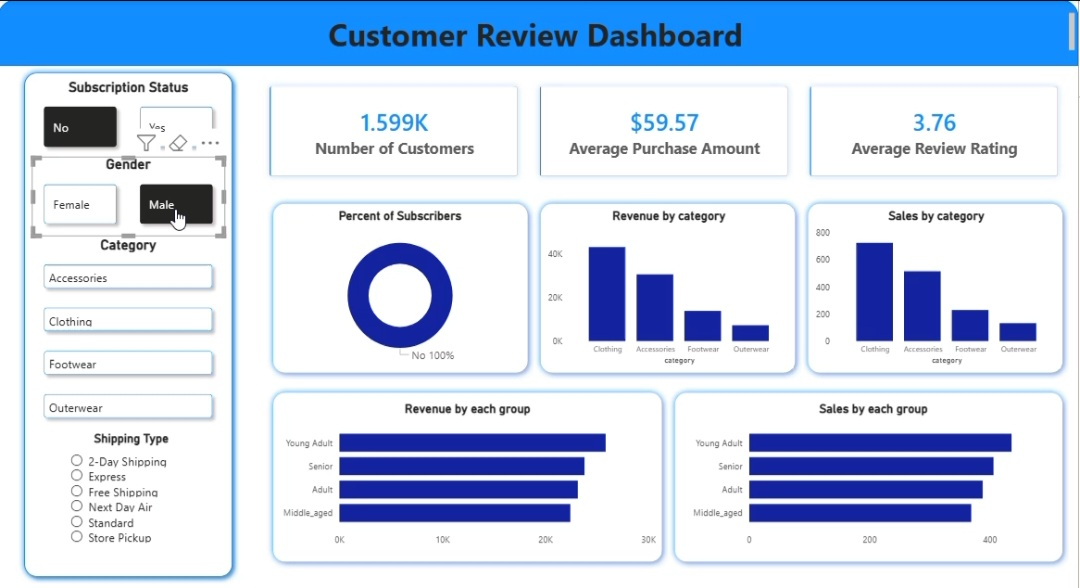

The page's visual inventory and layout, read from the dashboard file:
{"tool":"powerbi","page":{"name":"Page 1","canvas":[1500,820],"ordinal":0},"visuals":[{"type":"shape","box":[373.1,273.4,371.5,252.5],"z":0,"group":"g1"},{"type":"cardVisual","fields":{"Data":["customer.Number of Customers","customer.Average Purchase Amount","customer.Average Review Rating"]},"box":[349,91.7,1151.4,181.7],"z":0},{"type":"shape","box":[373.1,535.5,558,252.5],"z":0},{"type":"shape","box":[0,0,1500.3,91.7],"z":1000},{"type":"donutChart","title":"Percent of Subscribers","fields":{"Category":["customer.subscription_status"],"Y":["CountNonNull(customer.customer_id)"]},"box":[387.1,288.9,341.8,221.5],"z":1000,"group":"g1"},{"type":"shape","box":[744.6,273.4,371.5,252.5],"z":2000,"group":"g1"},{"type":"textbox","box":[0,12.9,1500.3,64.3],"z":2000},{"type":"clusteredColumnChart","title":"Revenue by category","fields":{"Y":["Sum(customer.purphase_amount)"],"Category":["customer.category"]},"box":[758.5,288.9,345.3,221.5],"z":3000,"group":"g1"},{"type":"shape","box":[27.3,91.7,307.1,717.2],"z":3000},{"type":"shape","box":[1116,273.4,371.5,252.5],"z":3000},{"type":"clusteredColumnChart","title":"Sales by category","fields":{"Category":["customer.category"],"Y":["CountNonNull(customer.customer_id)"]},"box":[1130,288.9,345.3,221.5],"z":4000,"group":"g1"},{"type":"advancedSlicerVisual","title":"Subscription Status","fields":{"Values":["customer.subscription_status"]},"box":[46.6,109.3,268.5,112.6],"z":5000},{"type":"group","id":"g1","title":"Group 1","box":[373.1,273.4,1102.2,252.5],"z":5000},{"type":"advancedSlicerVisual","title":"Gender","fields":{"Values":["customer.gender"]},"box":[46.6,217.1,268.5,111],"z":6000},{"type":"advancedSlicerVisual","title":"Category","fields":{"Values":["customer.category"]},"box":[46.6,328,268.5,270.2],"z":7000},{"type":"listSlicer","title":"Shipping Type","fields":{"Values":["customer.shipping_type"]},"box":[56.3,598.2,252.5,199.4],"z":8000},{"type":"clusteredBarChart","title":"Revenue by each group","fields":{"Category":["customer.age_group"],"Y":["Sum(customer.purphase_amount)"]},"box":[385.9,556.4,532.3,210.7],"z":9000},{"type":"shape","box":[931.1,535.5,556.4,252.5],"z":9001},{"type":"clusteredBarChart","title":"Sales by each group","fields":{"Y":["CountNonNull(customer.customer_id)"],"Category":["customer.age_group"]},"box":[955.2,556.4,521,210.7],"z":9002}]}

Visuals, with their boxes in screenshot pixels (x1, y1, x2, y2), scaled from the page's 1500x820 canvas onto the 1080x588 screenshot:
shape: bbox(269, 196, 536, 377)
cardVisual - customer.Number of Customers x customer.Average Purchase Amount: bbox(251, 66, 1079, 196)
shape: bbox(269, 384, 670, 565)
shape: bbox(0, 0, 1079, 66)
"Percent of Subscribers" donutChart: bbox(279, 207, 525, 366)
shape: bbox(536, 196, 804, 377)
textbox: bbox(0, 9, 1079, 55)
"Revenue by category" clusteredColumnChart: bbox(546, 207, 795, 366)
shape: bbox(20, 66, 241, 580)
shape: bbox(804, 196, 1071, 377)
"Sales by category" clusteredColumnChart: bbox(814, 207, 1062, 366)
"Subscription Status" advancedSlicerVisual: bbox(34, 78, 227, 159)
"Group 1" group: bbox(269, 196, 1062, 377)
"Gender" advancedSlicerVisual: bbox(34, 156, 227, 235)
"Category" advancedSlicerVisual: bbox(34, 235, 227, 429)
"Shipping Type" listSlicer: bbox(41, 429, 222, 572)
"Revenue by each group" clusteredBarChart: bbox(278, 399, 661, 550)
shape: bbox(670, 384, 1071, 565)
"Sales by each group" clusteredBarChart: bbox(688, 399, 1063, 550)
